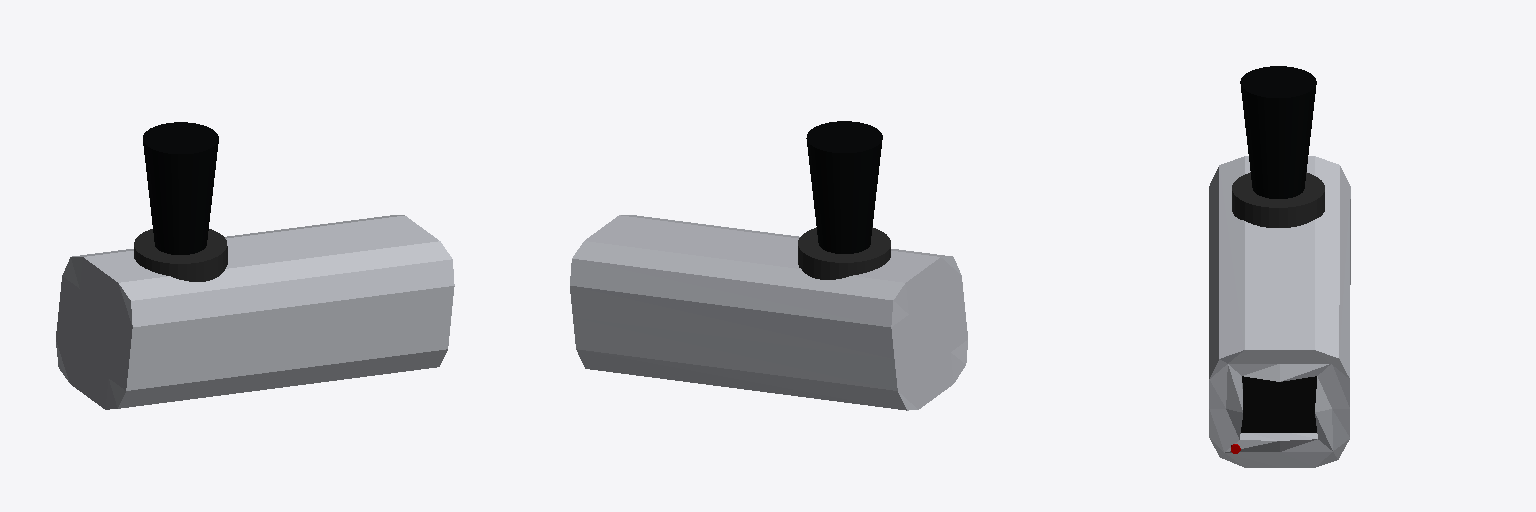
File: camera.obj
The picture shows the model from 3 angles: view 1: azimuth 30°, elevation 25°; view 2: azimuth 150°, elevation 25°; view 3: azimuth 270°, elevation 25°; orthographic projection.
Parts seen in each view (by area): view 1: Куб, Цилиндр, Цилиндр.001; view 2: Куб, Цилиндр, Цилиндр.001; view 3: Куб, Цилиндр, Плоскость, Цилиндр.001.
Boxes of the visible parts, x1,y1,x2,y2 form: Куб: [56, 215, 454, 409]; Цилиндр: [143, 122, 218, 254]; Цилиндр.001: [134, 229, 227, 281]; Куб: [570, 215, 967, 410]; Цилиндр: [806, 121, 882, 253]; Цилиндр.001: [798, 227, 890, 279]; Куб: [1209, 156, 1350, 467]; Цилиндр: [1240, 66, 1316, 198]; Плоскость: [1241, 376, 1316, 432]; Цилиндр.001: [1232, 172, 1324, 227].
Bounding box in the file's own units: 1.33 × 1.03 × 0.482.